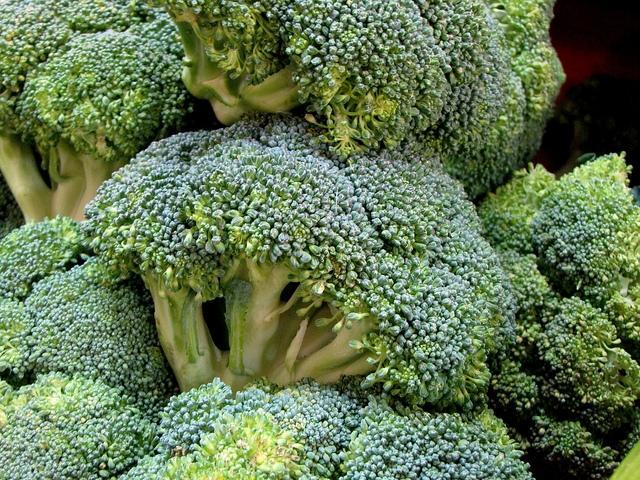broccoli: (80, 110, 519, 405), (2, 2, 192, 223), (0, 256, 181, 424), (118, 374, 390, 480), (408, 0, 528, 202), (525, 152, 640, 344), (335, 394, 532, 479), (534, 295, 640, 433), (484, 0, 569, 170), (484, 249, 562, 425), (478, 162, 556, 257), (530, 407, 622, 480), (220, 110, 328, 157), (1, 170, 26, 242)
